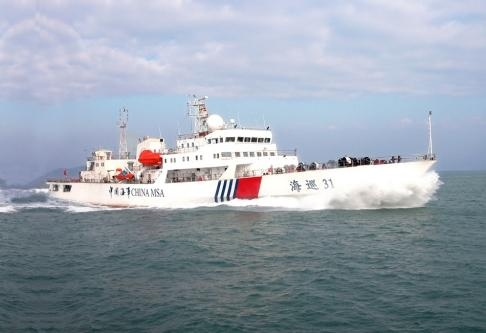warship: (40, 85, 446, 212)
